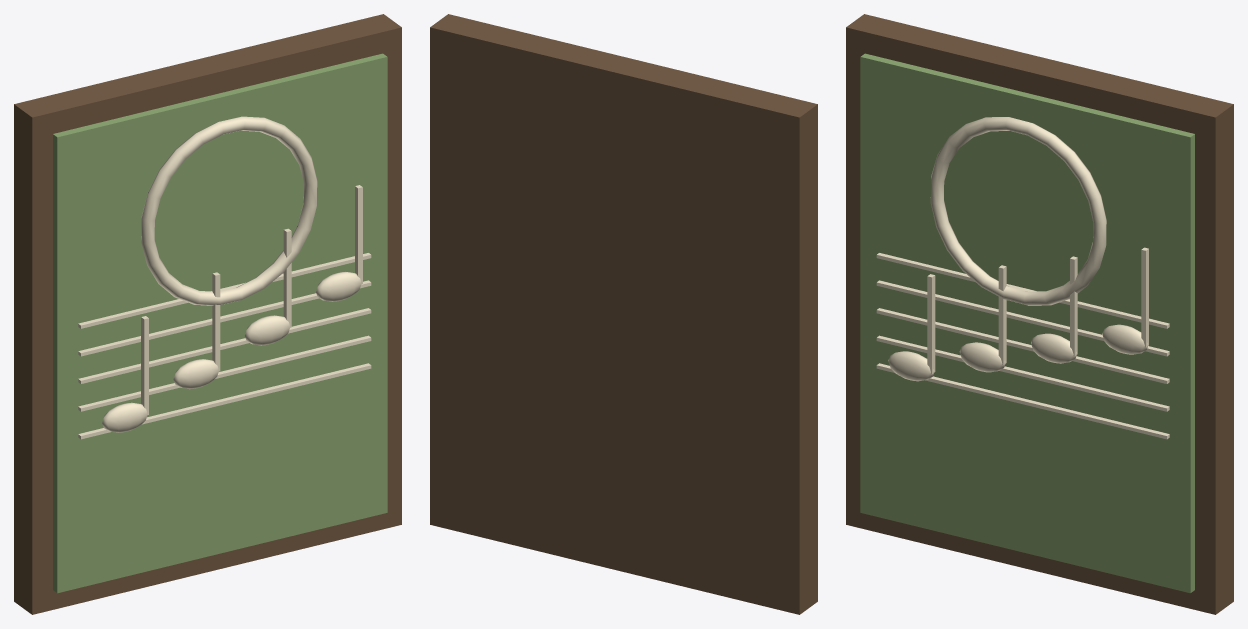
The picture shows the model from 3 angles, left to right: view 1: azimuth 30°, elevation 25°; view 2: azimuth 150°, elevation 25°; view 3: azimuth 330°, elevation 25°; orthographic projection.
Bounding box in the file's own units: 1.4 × 1.8 × 0.2415.
